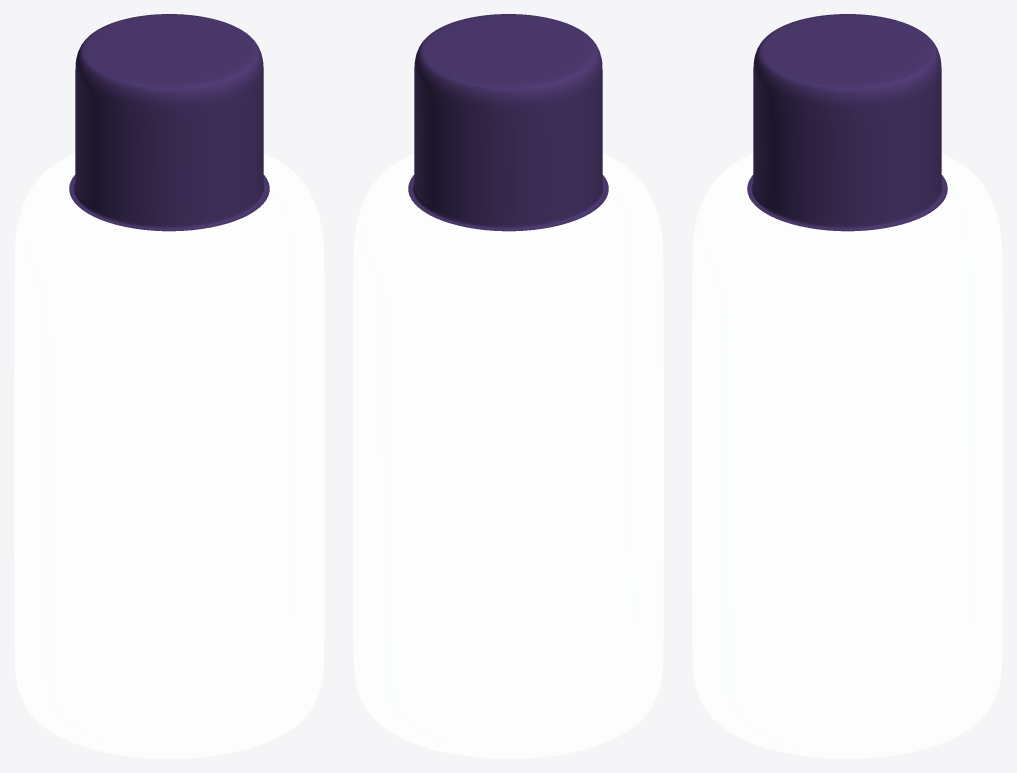
File: Water Bottle.fbx
3 renders of one model, left to right at view 1: azimuth 30°, elevation 25°; view 2: azimuth 150°, elevation 25°; view 3: azimuth 270°, elevation 25°, orthographic.
Visible parts, largest first — view 1: Cylinder; view 2: Cylinder; view 3: Cylinder.
Part boxes in pixels (bbox=[...]): Cylinder: bbox=[14, 14, 324, 758]; Cylinder: bbox=[353, 14, 663, 758]; Cylinder: bbox=[692, 14, 1002, 758].
Bounding box in the file's own units: 65.52 × 151 × 65.52.
